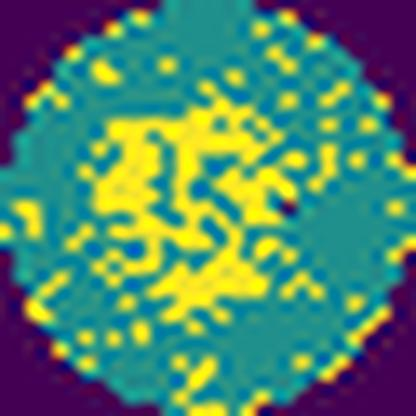Donut: (79, 96, 313, 336)
